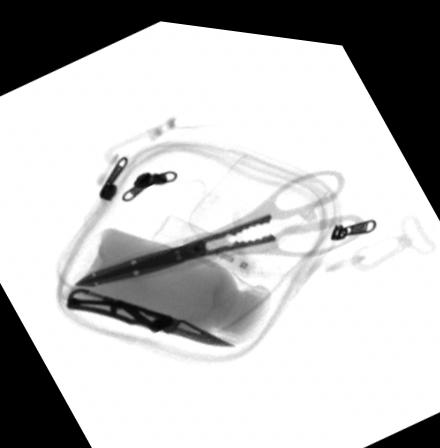Knife: (67, 288, 235, 339)
Scissors: (74, 160, 365, 282)
